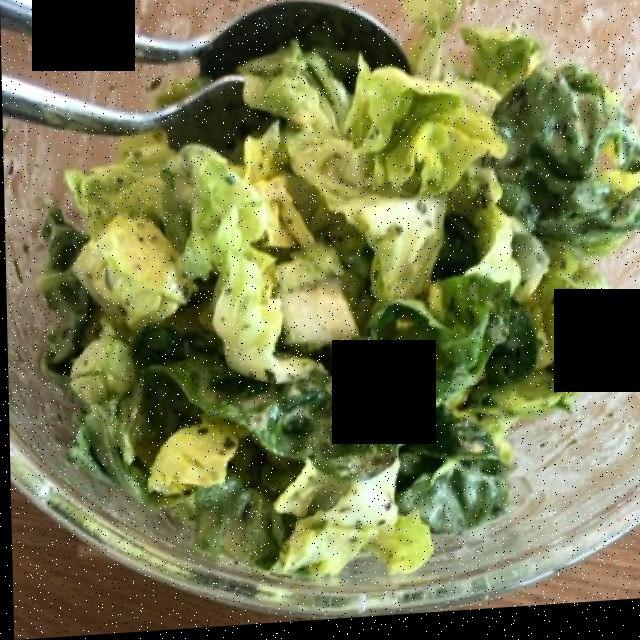salad: (44, 24, 624, 577)
